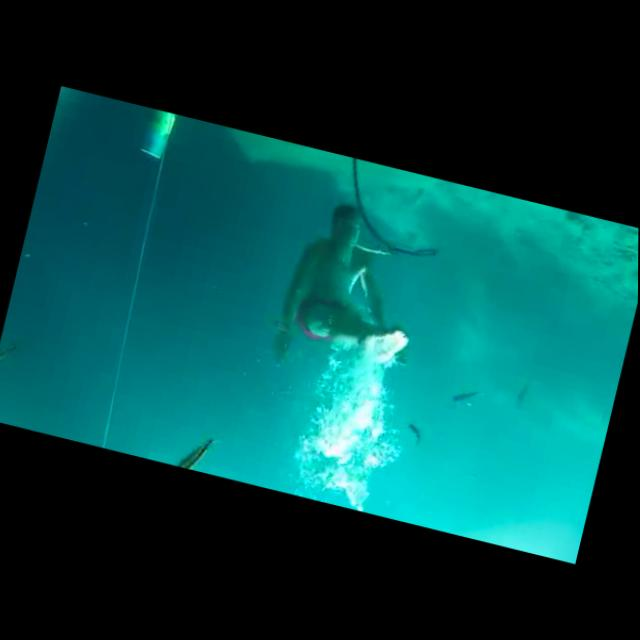human: (258, 182, 446, 398)
